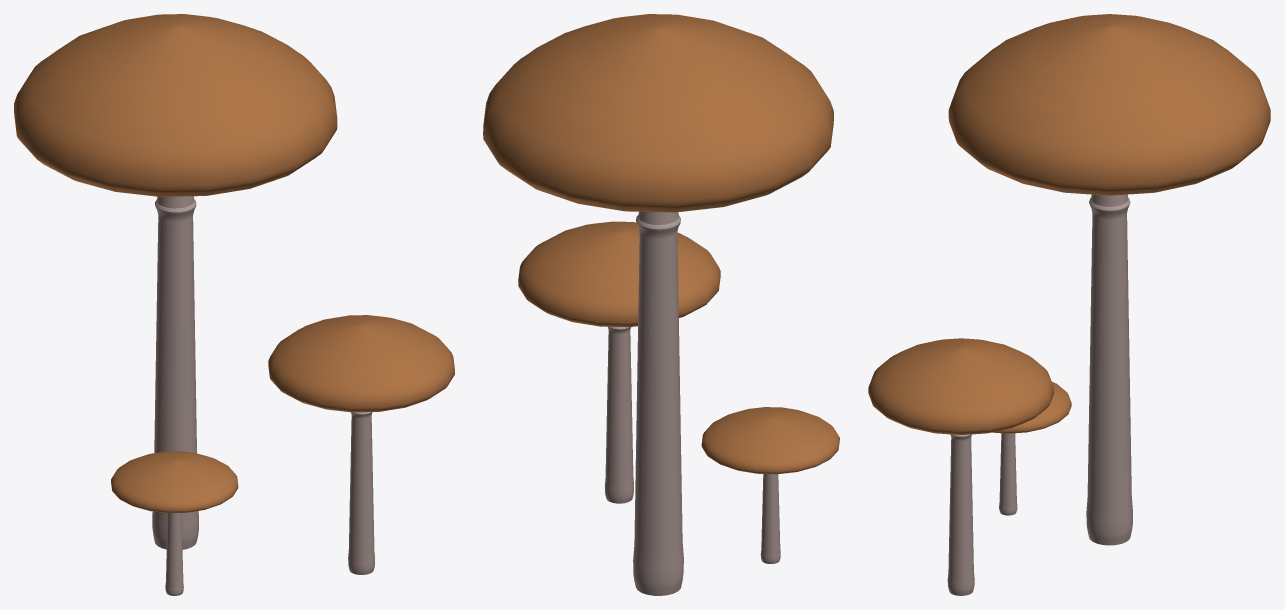
File: Mesh_Mushroom_03.fbx
3 views of the same model, side by side, from view 1: azimuth 30°, elevation 25°; view 2: azimuth 150°, elevation 25°; view 3: azimuth 270°, elevation 25° (orthographic). The views are drawn at different scales.
Parts seen in each view (by area): view 1: Mushroom2, Mushroom3, Mushroom4; view 2: Mushroom2, Mushroom3, Mushroom4; view 3: Mushroom2, Mushroom3, Mushroom4.
Part boxes in pixels (x1=…): Mushroom2: x1=14, y1=14, x2=337, y2=549; Mushroom3: x1=268, y1=315, x2=454, y2=574; Mushroom4: x1=111, y1=451, x2=238, y2=595; Mushroom2: x1=483, y1=14, x2=833, y2=595; Mushroom3: x1=518, y1=221, x2=720, y2=503; Mushroom4: x1=701, y1=407, x2=839, y2=563; Mushroom2: x1=948, y1=14, x2=1270, y2=545; Mushroom3: x1=868, y1=338, x2=1053, y2=595; Mushroom4: x1=992, y1=382, x2=1071, y2=515.
Bounding box in the file's own units: 23.31 × 34.47 × 24.64.
